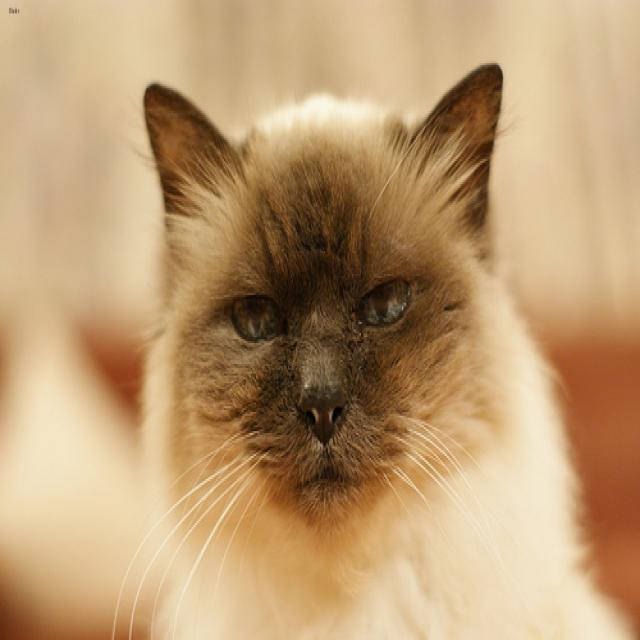Birman: (142, 61, 501, 525)
